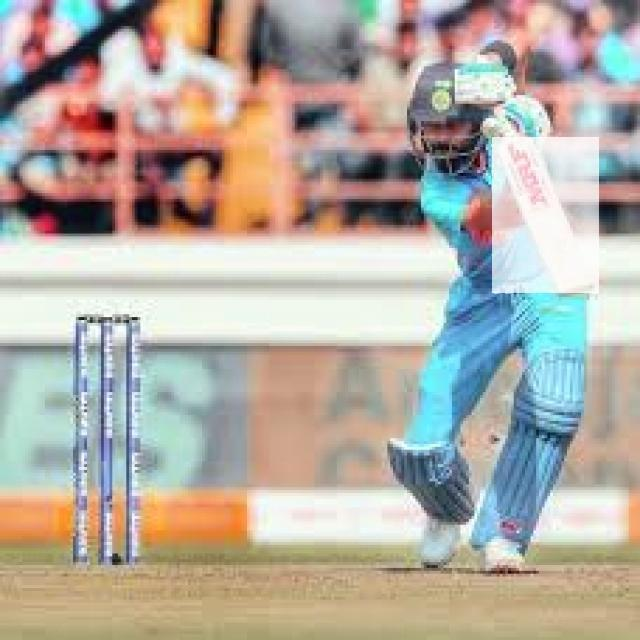bat: (491, 138, 600, 293)
toe: (565, 279, 598, 298)
